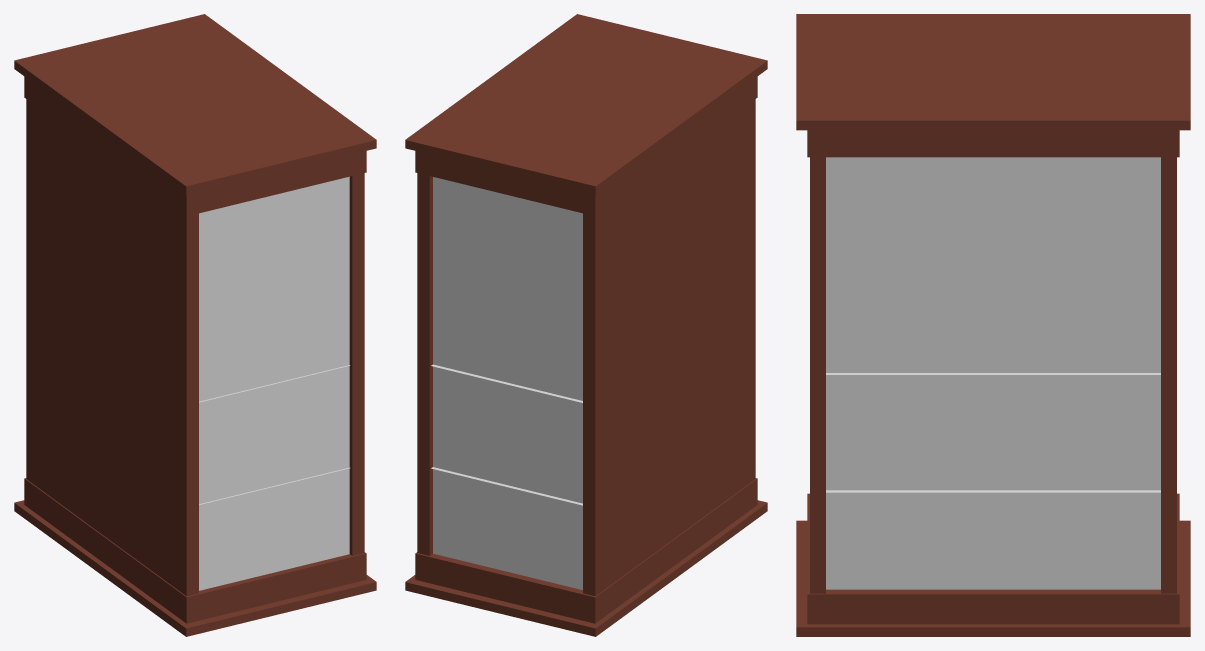
Rendered from shelf_vproom.fbx.
The picture shows the model from 3 angles, left to right: view 1: azimuth 30°, elevation 25°; view 2: azimuth 150°, elevation 25°; view 3: azimuth 270°, elevation 25°; orthographic projection. The views are drawn at different scales.
Visible parts, largest first — view 1: Cube; view 2: Cube; view 3: Cube.
Part boxes in pixels (left/top/right/bottom): Cube: left=14, top=14, right=376, bottom=636; Cube: left=405, top=14, right=767, bottom=636; Cube: left=796, top=14, right=1190, bottom=636.
Size of the model in its own units: 1997 by 4511 by 3122.
